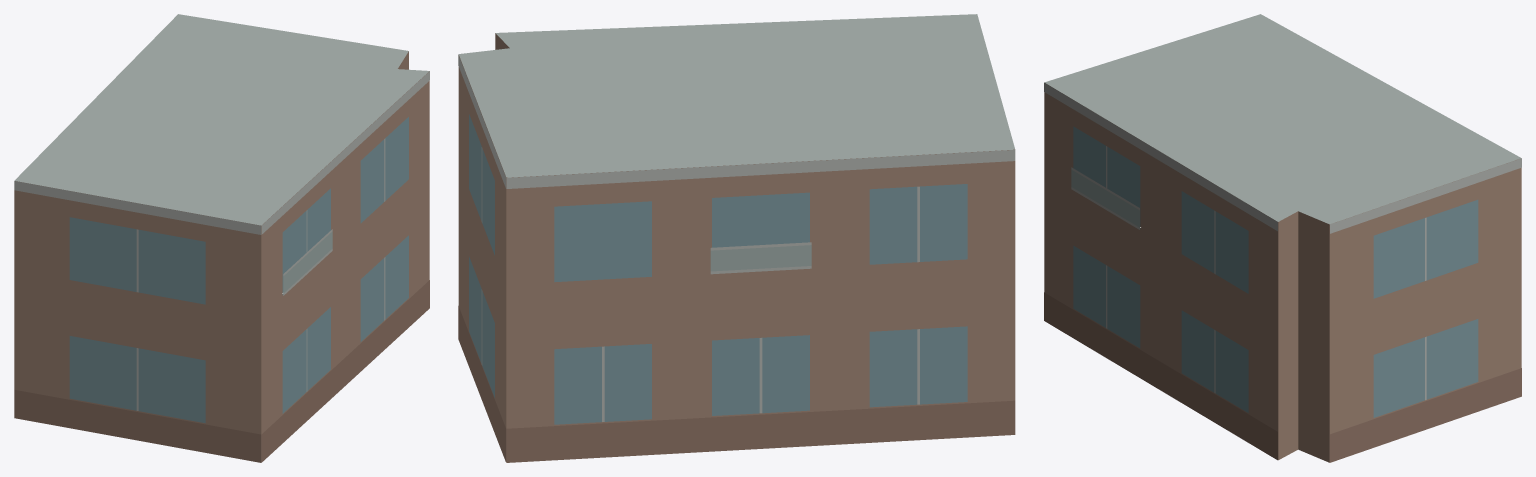
The model's file is survey-upis-32771632.glb.
3 views of the same model, side by side, from view 1: azimuth 30°, elevation 25°; view 2: azimuth 150°, elevation 25°; view 3: azimuth 270°, elevation 25° (orthographic). The views are drawn at different scales.
Parts seen in each view (by area): view 1: survey-upis-32771632.tmp; view 2: survey-upis-32771632.tmp; view 3: survey-upis-32771632.tmp.
Boxes of the visible parts, x1=… form: survey-upis-32771632.tmp: x1=14, y1=14, x2=429, y2=462; survey-upis-32771632.tmp: x1=458, y1=14, x2=1015, y2=462; survey-upis-32771632.tmp: x1=1044, y1=14, x2=1521, y2=462.
Bounding box in the file's own units: 11.55 × 6.1 × 11.08.
